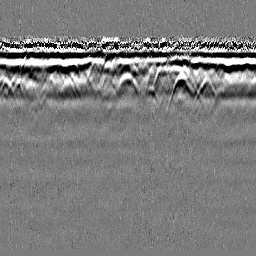cavity: (115, 71, 141, 96)
